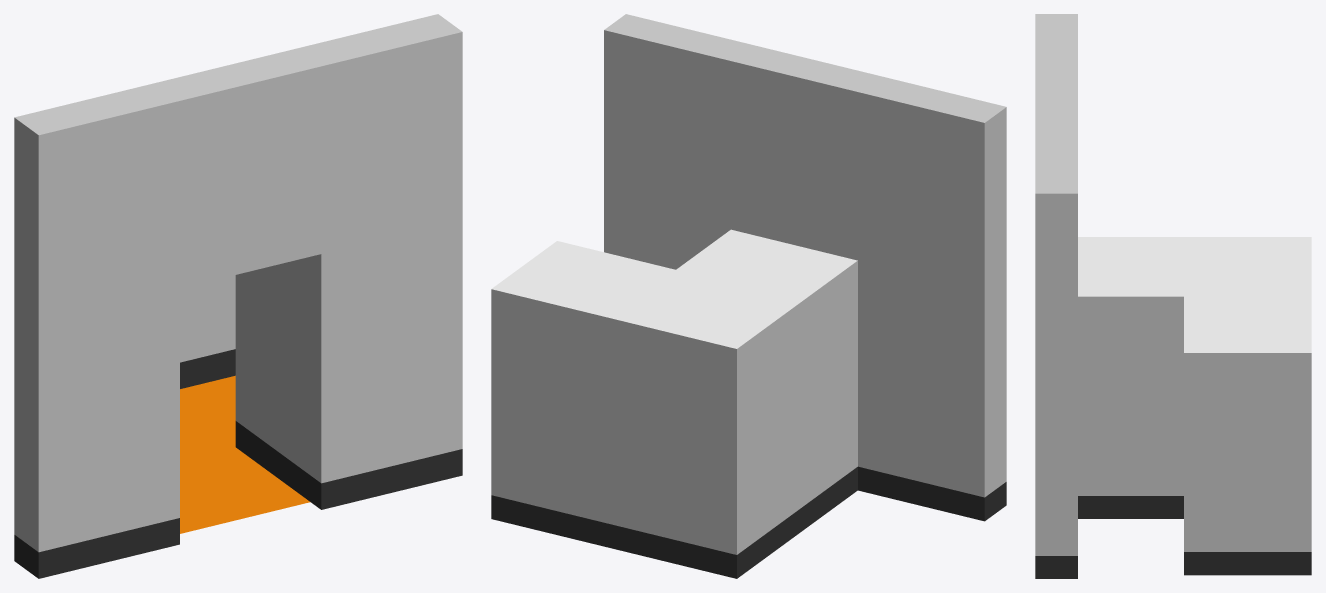
Rendered from RestroomRight.fbx.
3 renders of one model, left to right at view 1: azimuth 30°, elevation 25°; view 2: azimuth 150°, elevation 25°; view 3: azimuth 270°, elevation 25°, orthographic. The views are drawn at different scales.
Visible parts, largest first — view 1: RestroomRight.001; view 2: RestroomRight.001; view 3: RestroomRight.001.
Boxes of the visible parts, x1,y1,x2,y2 form: RestroomRight.001: (14, 14, 462, 578); RestroomRight.001: (491, 14, 1006, 578); RestroomRight.001: (1035, 14, 1311, 578).
Bounding box in the file's own units: 500 × 500 × 325.
